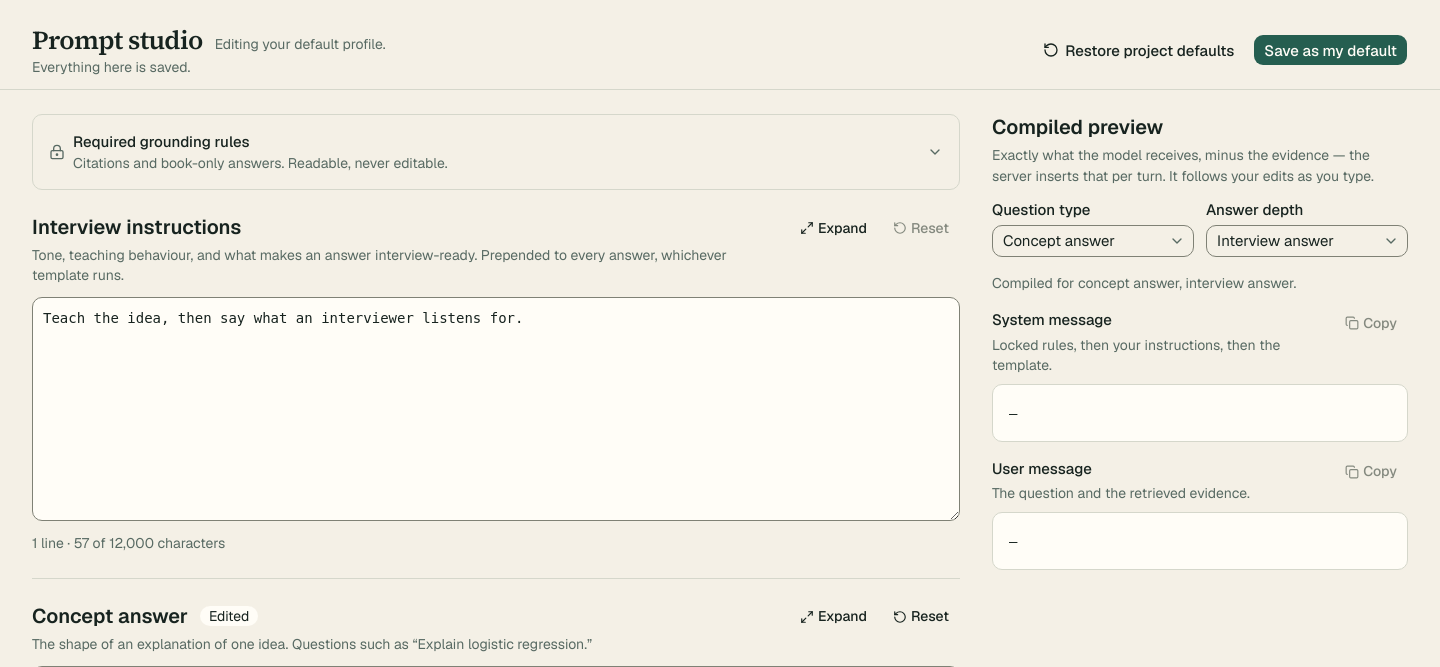
Test: prompt studio › restores one prompt to its project default
Check: the element "Concept answer" shows "Edited", box [209,607,249,625]
Click the button "Reset" in the row of "Edited".
click(921, 617)  # box [882,603,960,631]
(page scrolled)
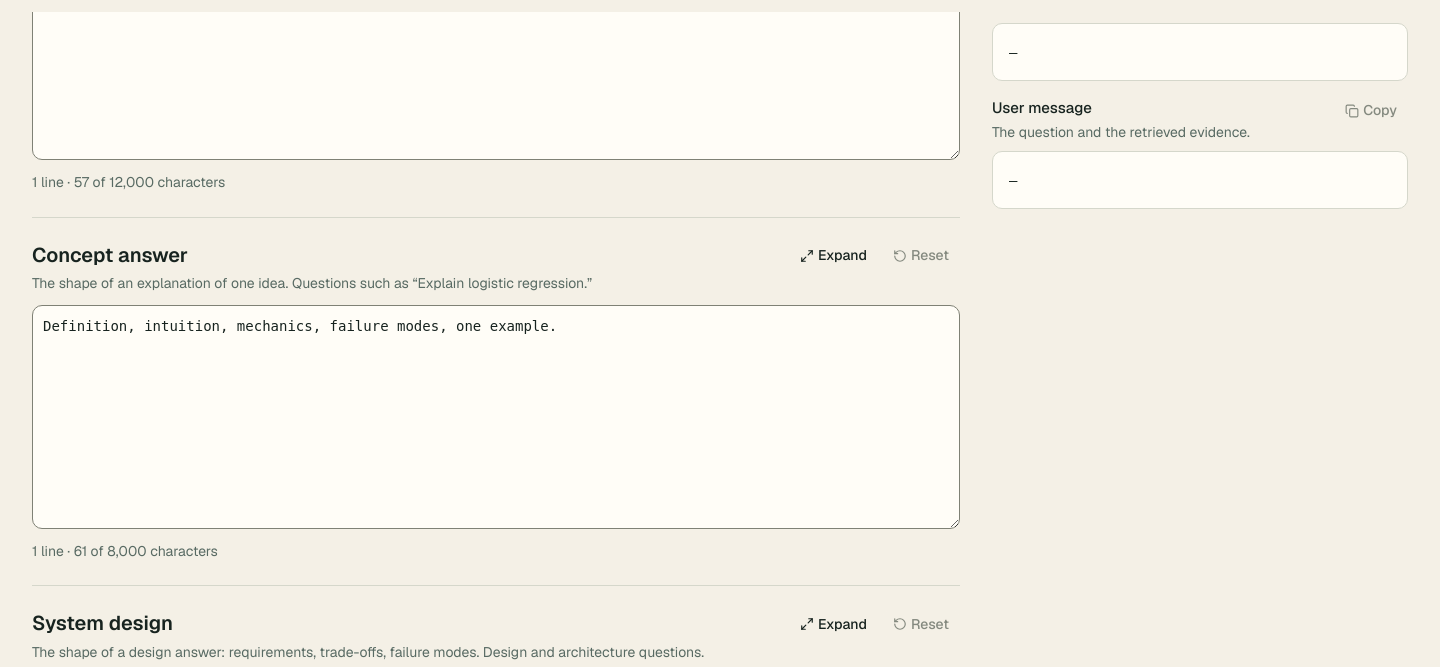
Check: the text box named "Concept answer" holds "Definition, intuition, mechanics, failure modes, one example.", box [32,305,960,529]
